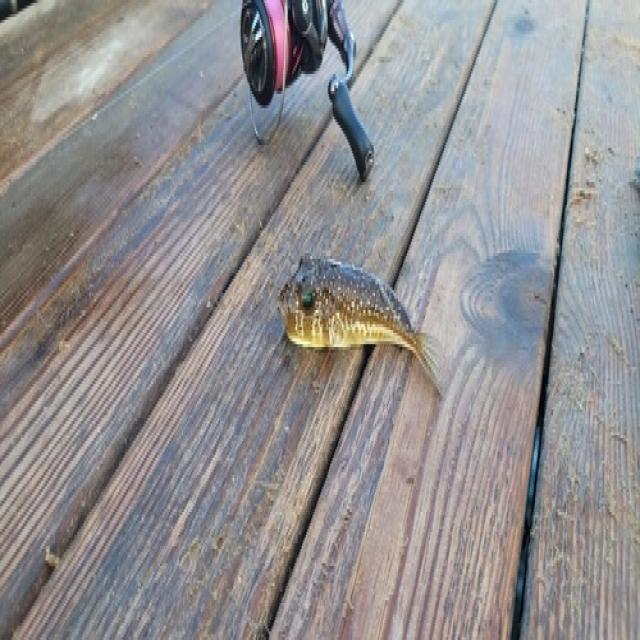Balik: (280, 256, 440, 392)
